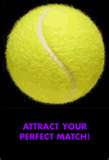tennis ball: (5, 2, 108, 108)
